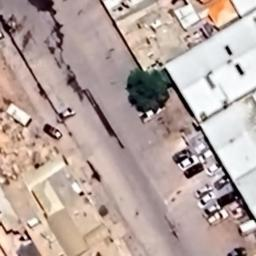pickup: (207, 207, 232, 227)
sedan: (139, 104, 164, 125), (195, 189, 218, 211), (181, 161, 205, 179), (55, 104, 77, 122), (178, 154, 200, 172), (193, 181, 214, 199), (202, 203, 222, 219), (198, 148, 214, 164), (206, 162, 224, 176), (226, 245, 248, 256)
unknown: (42, 123, 64, 142)
van: (173, 148, 193, 166)
